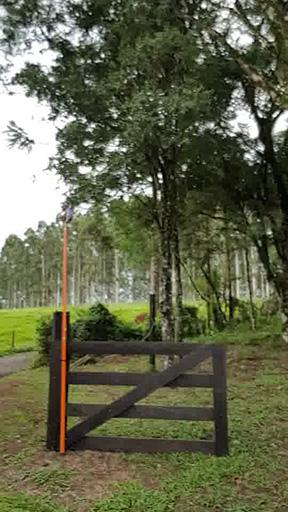Vara_Manobra: (57, 227, 68, 454)
